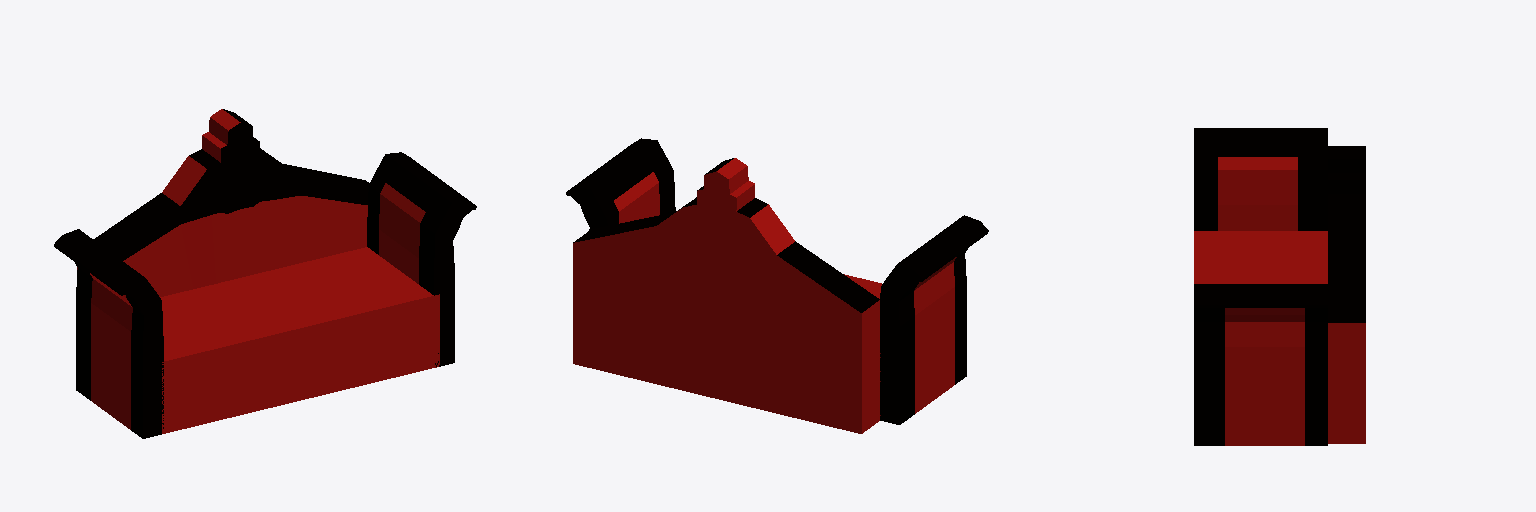
Rendered from OrphanageSofa.obj.
3 views of the same model, side by side, from view 1: azimuth 30°, elevation 25°; view 2: azimuth 150°, elevation 25°; view 3: azimuth 270°, elevation 25° (orthographic).
Parts seen in each view (by area): view 1: Cube, Cube.001, Cube.003, Cube.002_Cube.004; view 2: Cube.001, Cube.003, Cube.002_Cube.004; view 3: Cube.002_Cube.004, Cube.003, Cube.001, Cube.
Part boxes in pixels (x1,y1,x2,y2): Cube: (160,247,439,433); Cube.001: (77,109,369,296); Cube.003: (54,229,163,438); Cube.002_Cube.004: (367,152,476,366); Cube.001: (573,158,879,433); Cube.003: (880,215,988,424); Cube.002_Cube.004: (566,138,675,230); Cube.002_Cube.004: (1194,284,1327,445); Cube.003: (1194,128,1327,230); Cube.001: (1328,146,1365,443); Cube: (1194,231,1327,283).
Size of the model in its own units: 6.16 by 3.76 by 2.56.